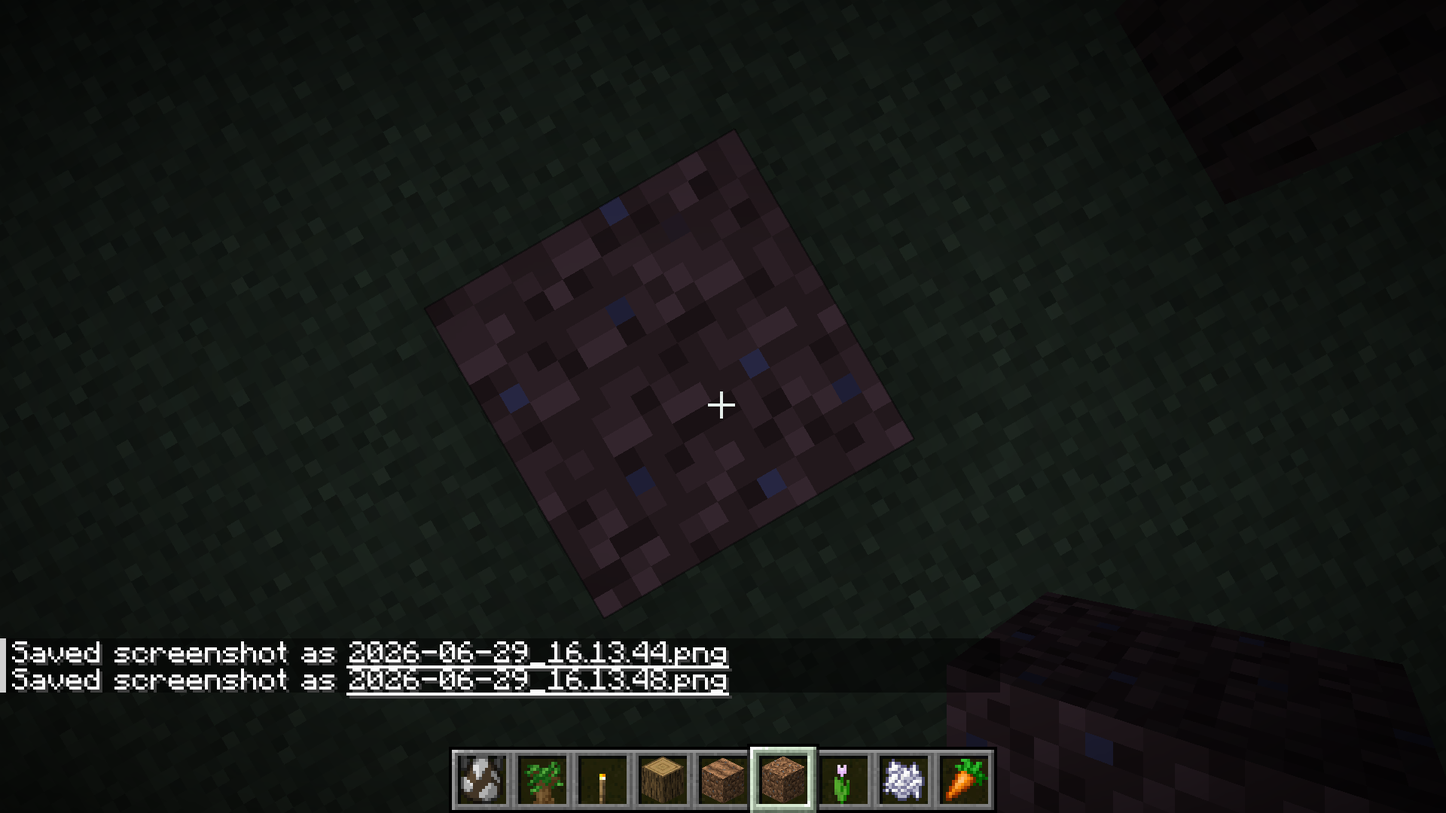dirt: (431, 134, 912, 614)
wood: (1118, 1, 1445, 202)
